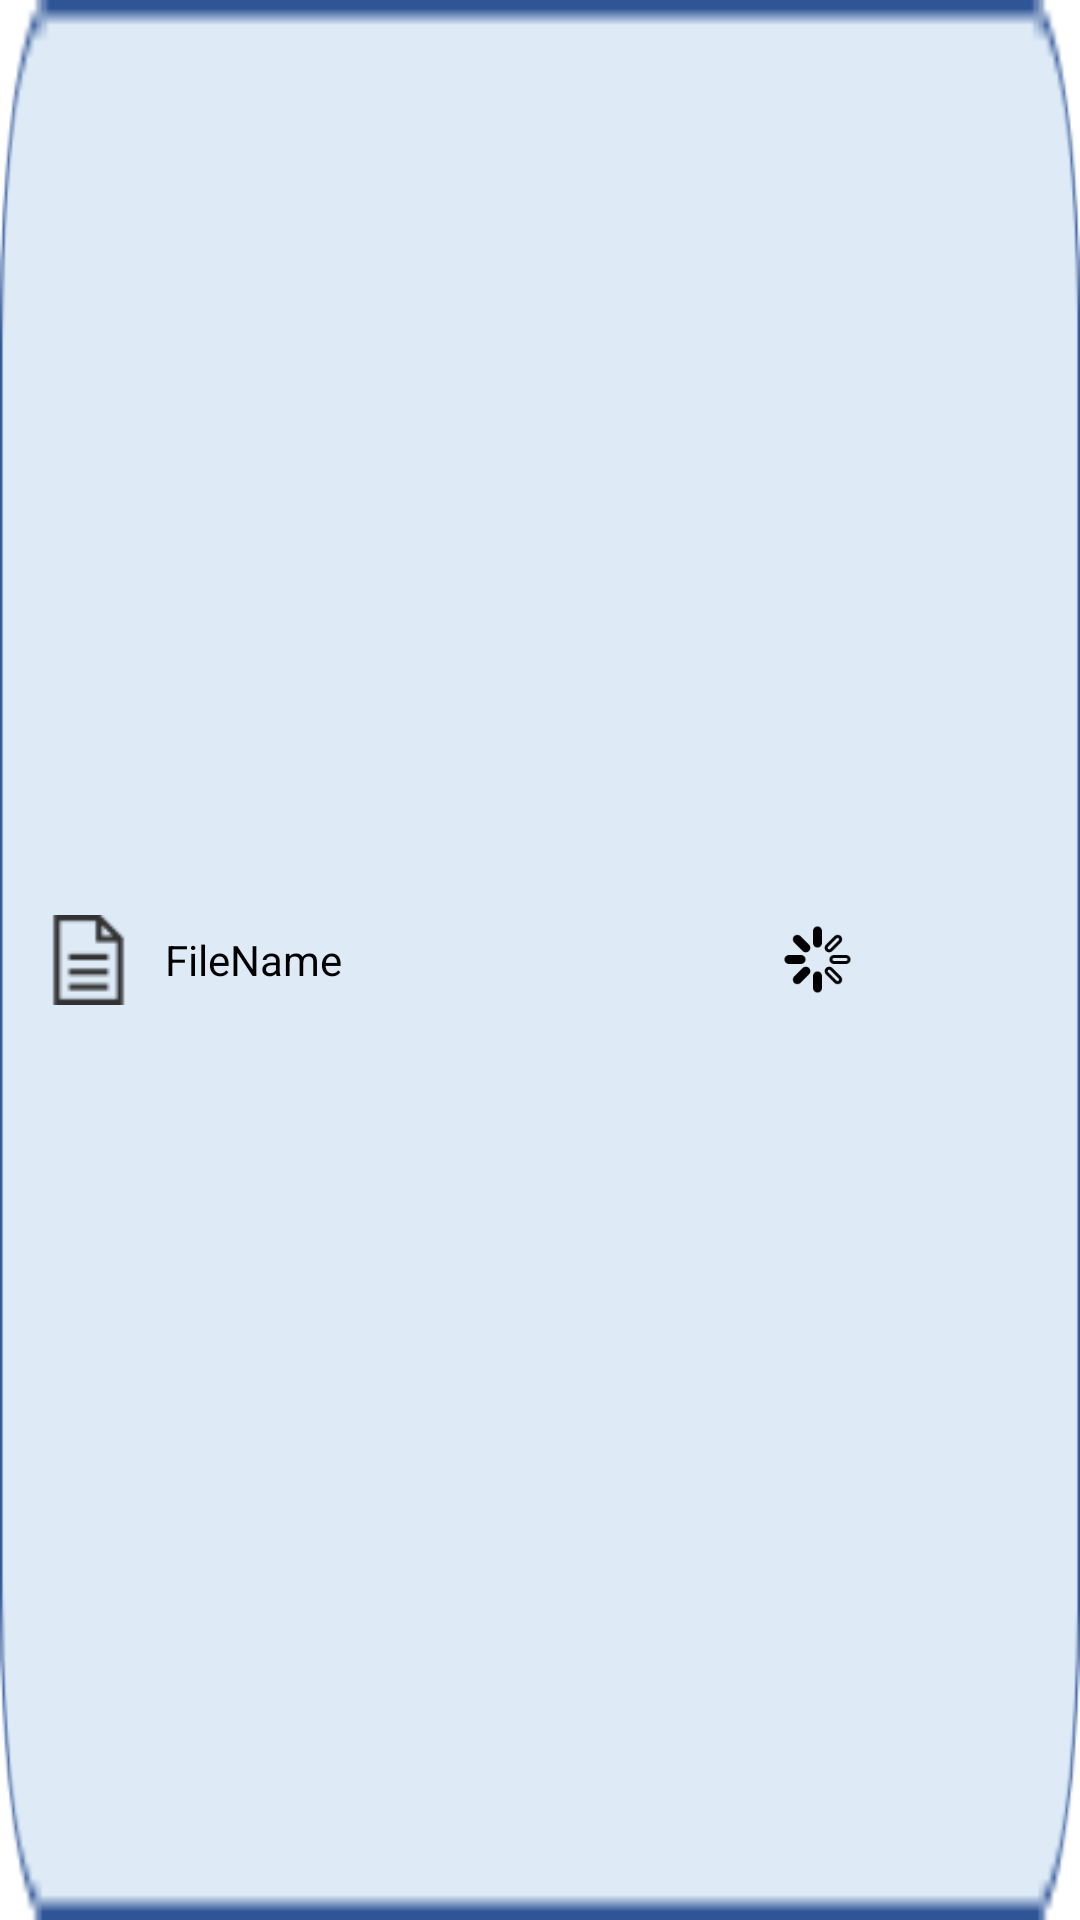

Named icons in this screenshot (1080px×1920px) and their centers, (x=x, y=y):
progress: (x=817, y=959)
